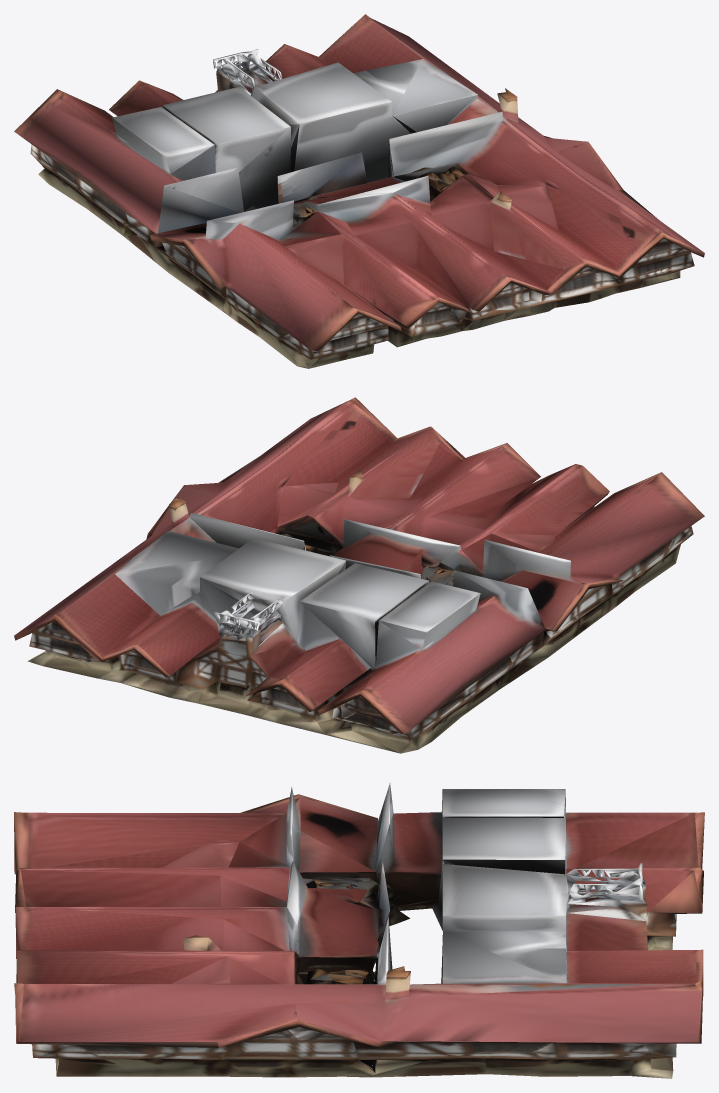
File: BD_Chaplin.fbx
3 renders of one model, top to bottom at view 1: azimuth 30°, elevation 25°; view 2: azimuth 150°, elevation 25°; view 3: azimuth 270°, elevation 25°, orthographic. The views are drawn at different scales.
Parts seen in each view (by area): view 1: model; view 2: model; view 3: model.
Boxes of the visible parts, bbox=[...] form: model: bbox=[14, 14, 704, 368]; model: bbox=[14, 397, 704, 753]; model: bbox=[14, 782, 704, 1078].
Bounding box in the file's own units: 70 × 90 × 14.
Materials: 1 (1 with a texture image).
